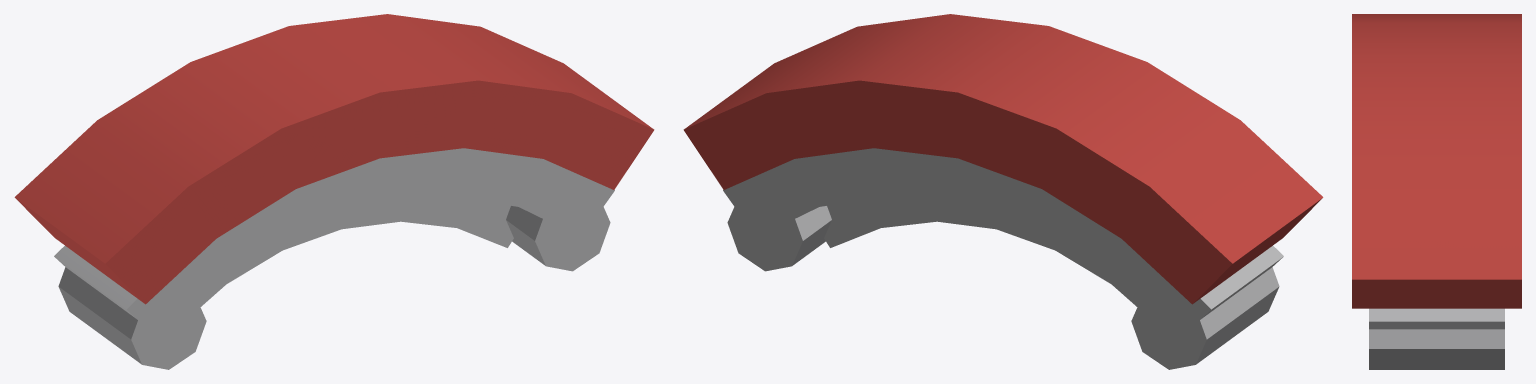
The model's file is drum_shoe_lod1.glb.
The picture shows the model from 3 angles, left to right: view 1: azimuth 30°, elevation 25°; view 2: azimuth 150°, elevation 25°; view 3: azimuth 270°, elevation 25°; orthographic projection. The views are drawn at different scales.
Visible parts, largest first — view 1: drum_shoe_lod1; view 2: drum_shoe_lod1; view 3: drum_shoe_lod1.
Boxes of the visible parts, box(x1,y1,x2,y2) form: drum_shoe_lod1: box(14, 14, 654, 369); drum_shoe_lod1: box(683, 14, 1323, 369); drum_shoe_lod1: box(1352, 14, 1521, 369).
Bounding box in the file's own units: 0.0872 × 0.0356 × 0.025.
